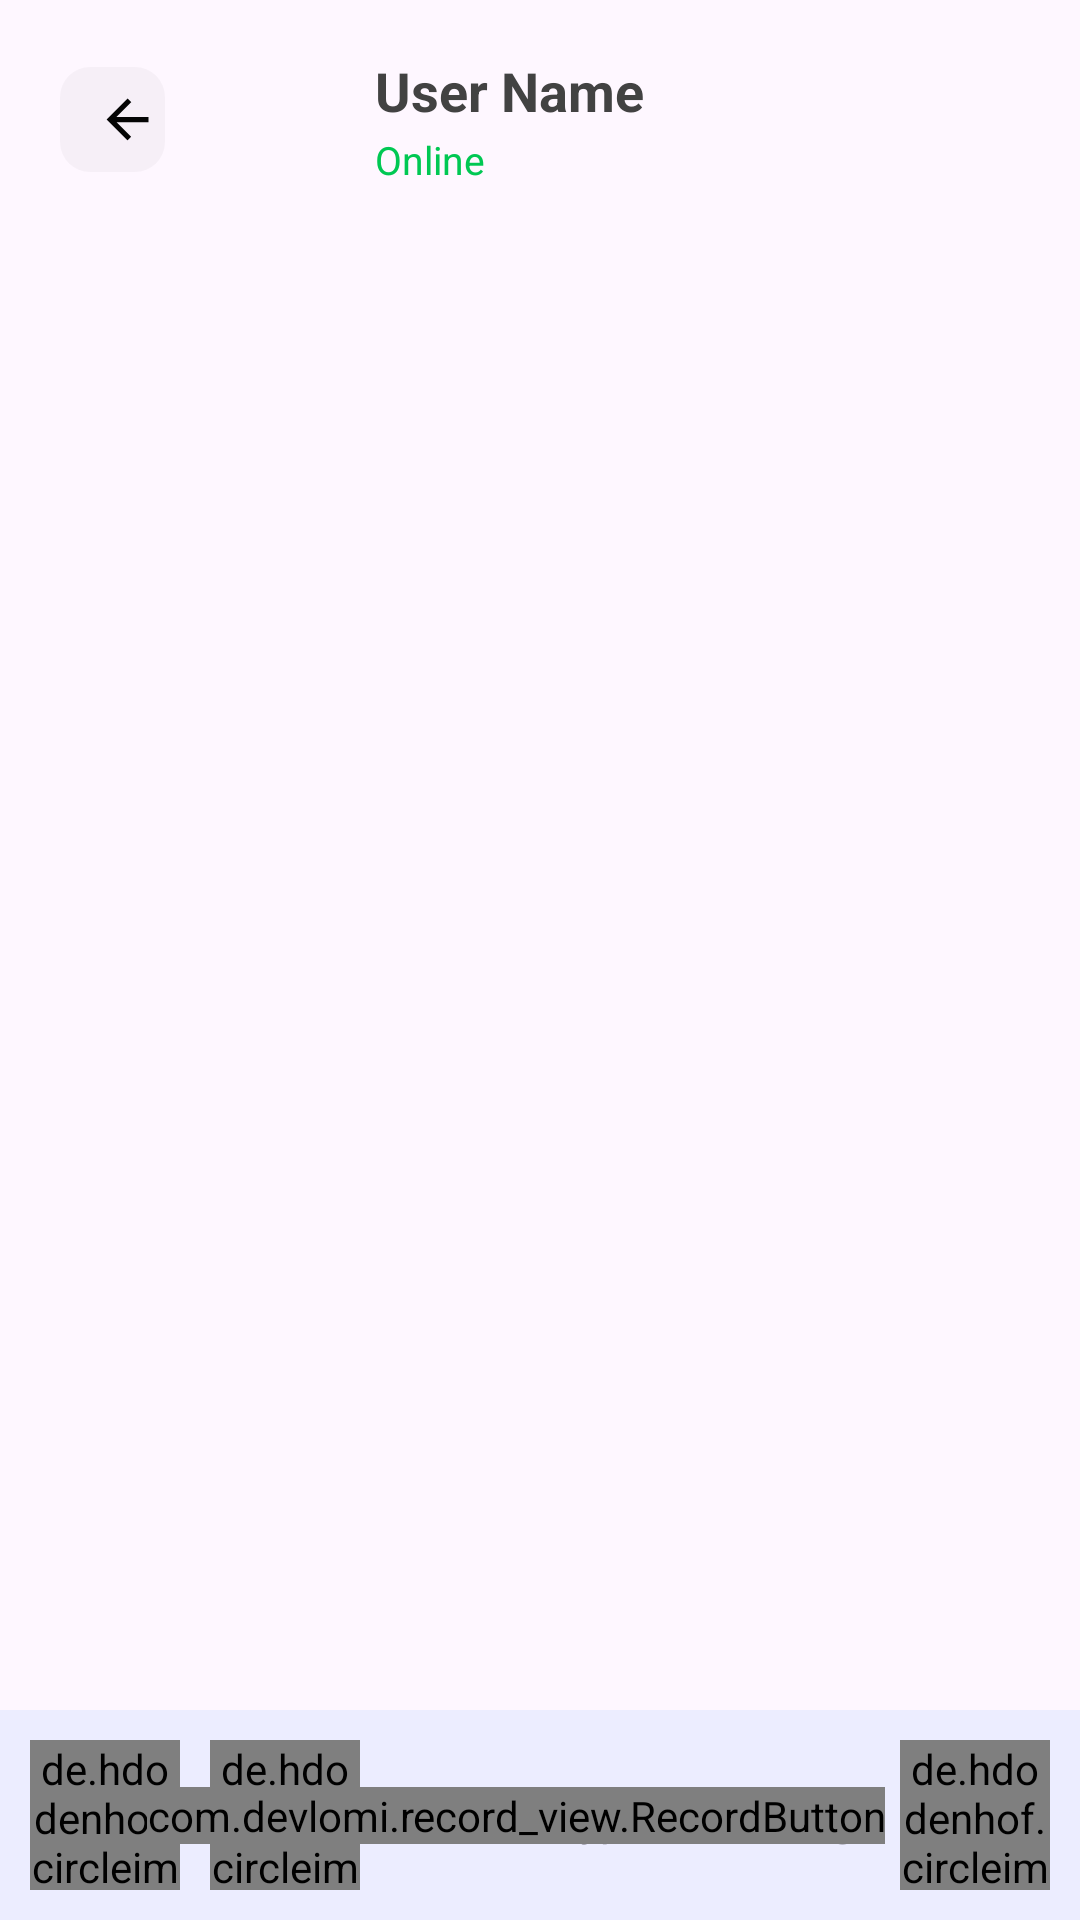

Locate icon controls on the screen. Image size 1080x1920, boxes as bbox=[x1, y1, x2, y2].
back: bbox=[106, 98, 149, 141]
